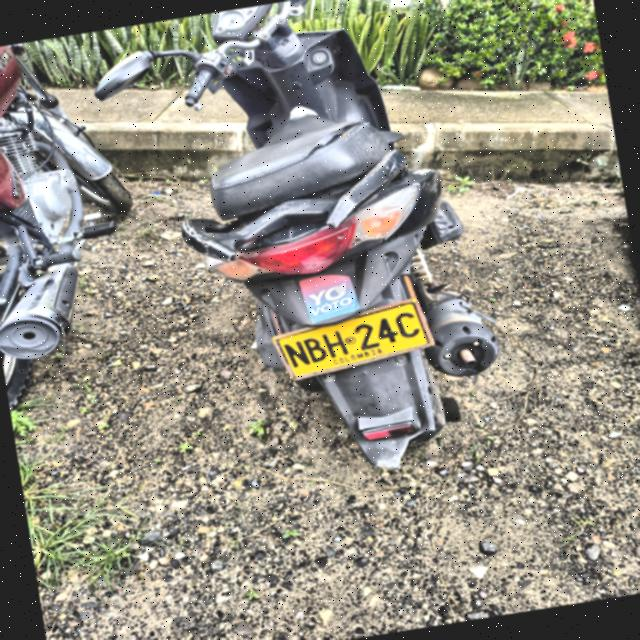2: (351, 320, 382, 352)
4: (371, 316, 403, 347)
B: (301, 335, 331, 364)
C: (391, 309, 424, 341)
H: (320, 329, 350, 360)
N: (281, 339, 313, 369)
